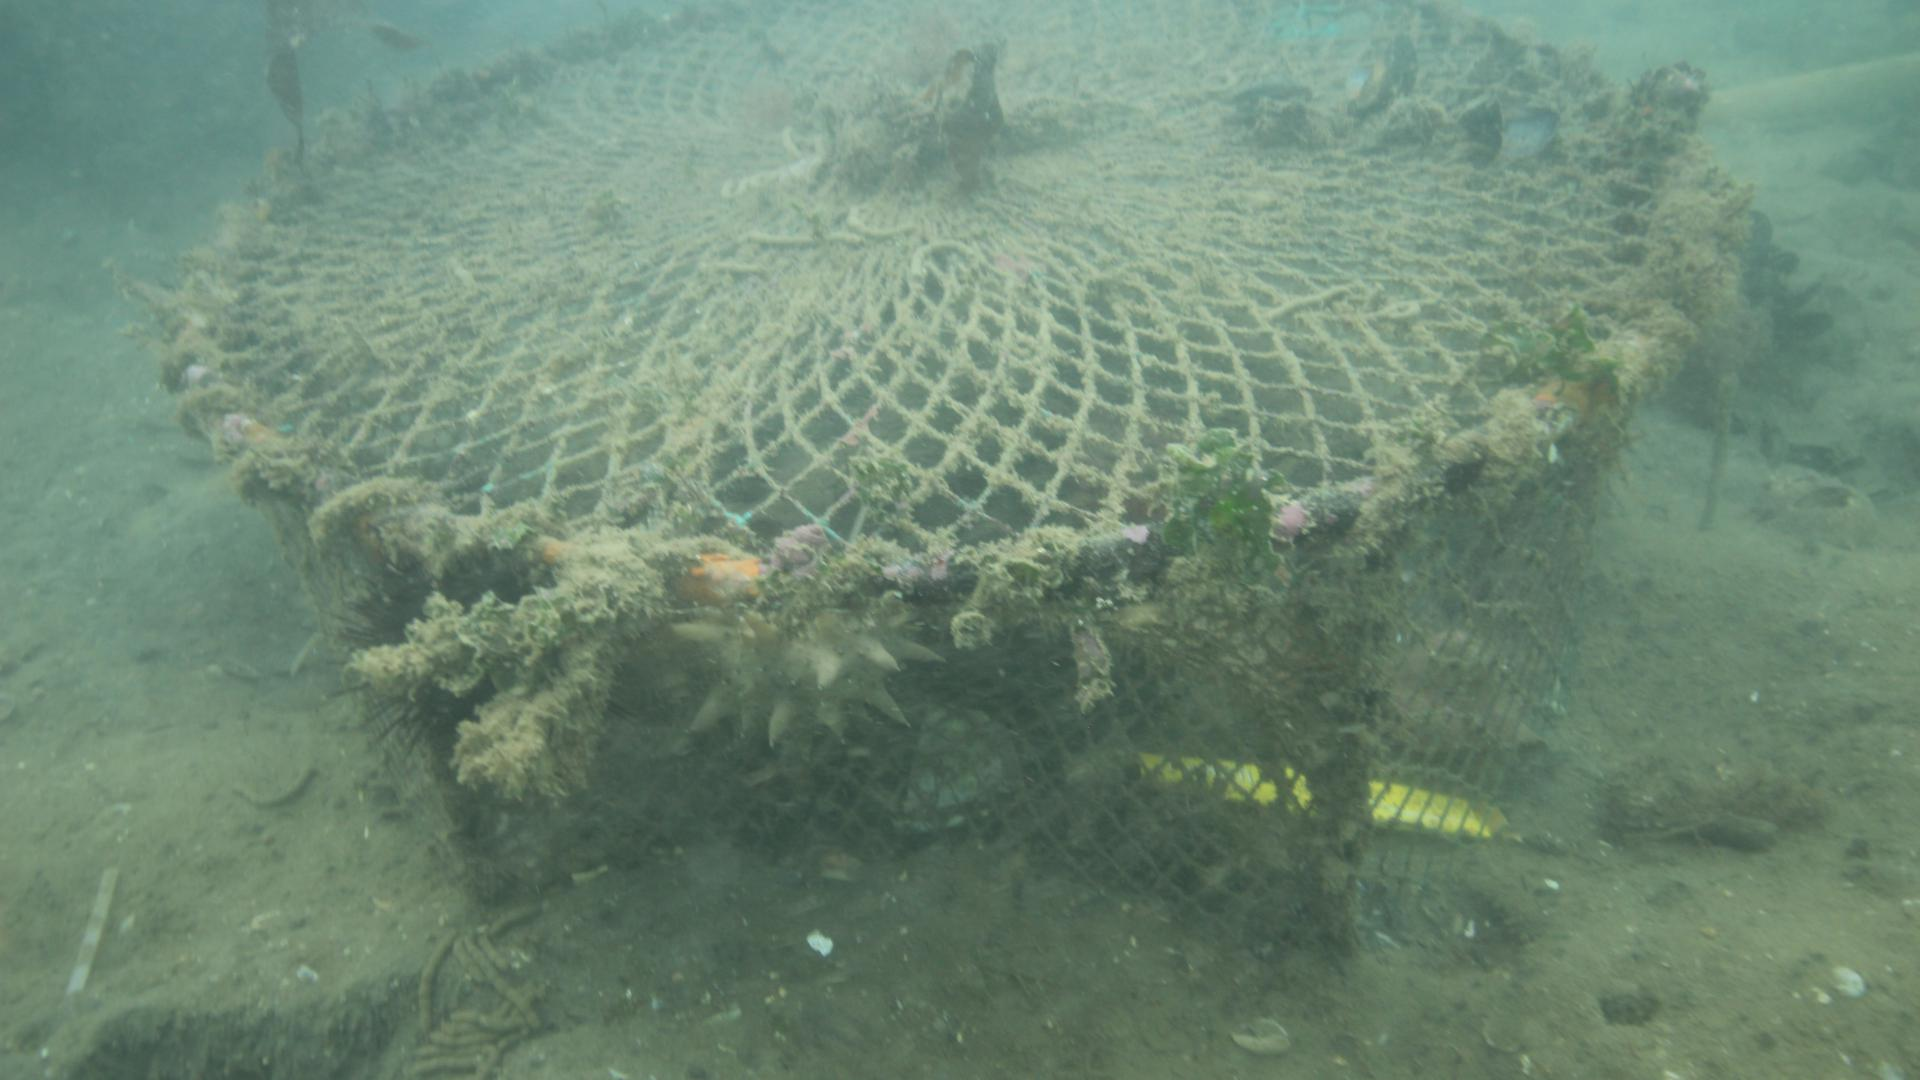circular fish trap: (166, 0, 1739, 967)
